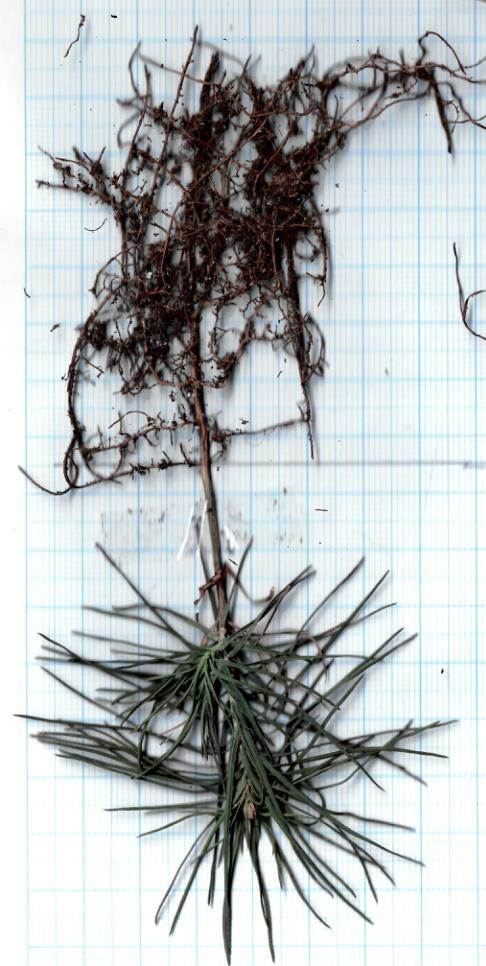flower: (10, 602, 470, 966)
root: (18, 19, 486, 500)
stem: (189, 440, 241, 601)
